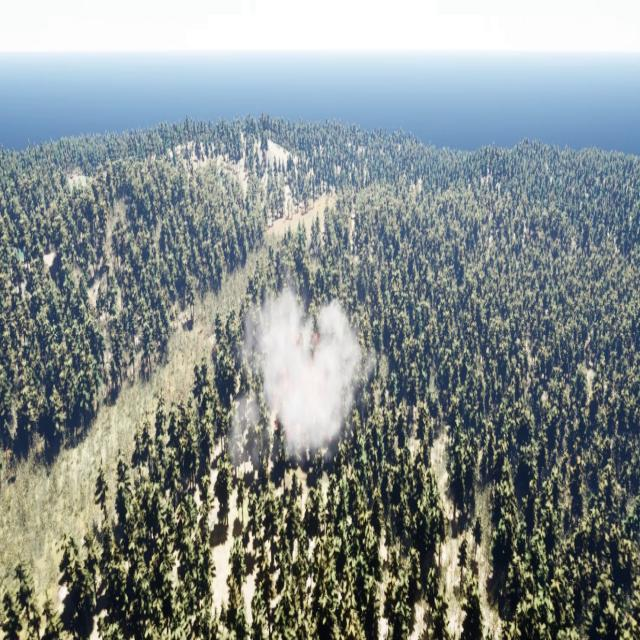smoke: (230, 294, 366, 461)
